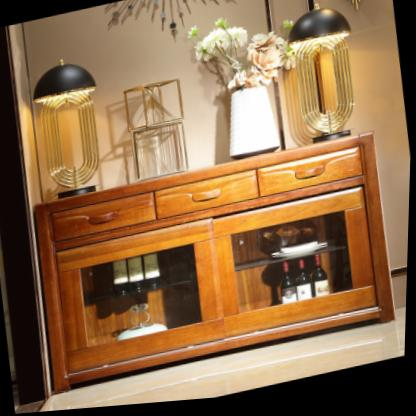Ceramic floor: (39, 312, 408, 413)
Cupboard: (33, 138, 396, 397)
